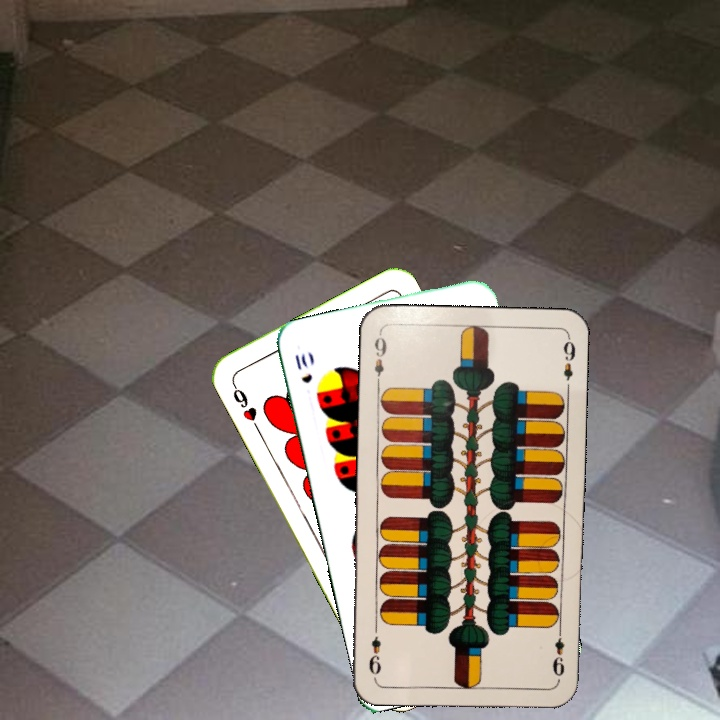E9: (370, 329, 390, 388), (548, 624, 567, 683)
H9: (228, 378, 262, 433)
S10: (291, 349, 315, 386)
